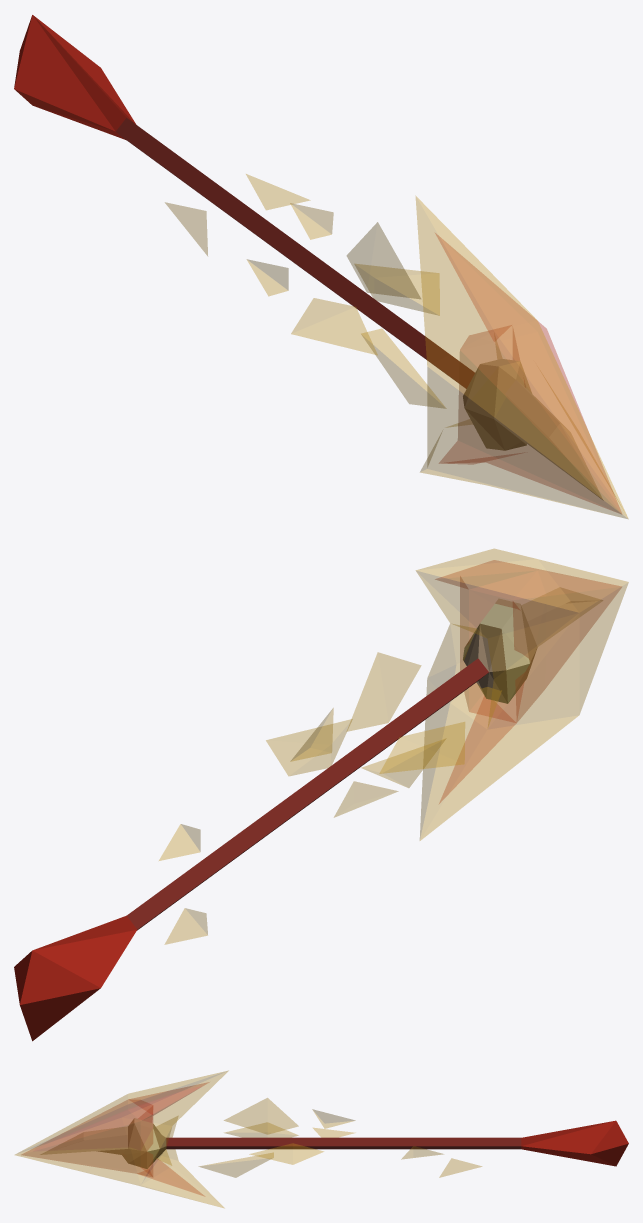
The model's file is dragon_arrow.glb.
The picture shows the model from 3 angles, top to bottom: view 1: azimuth 30°, elevation 25°; view 2: azimuth 150°, elevation 25°; view 3: azimuth 270°, elevation 25°; orthographic projection. The views are drawn at different scales.
Bounding box in the file's own units: 16 × 24.08 × 97.
Materials: 2 (2 with a texture image).
